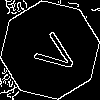V: (25, 25, 82, 79)
